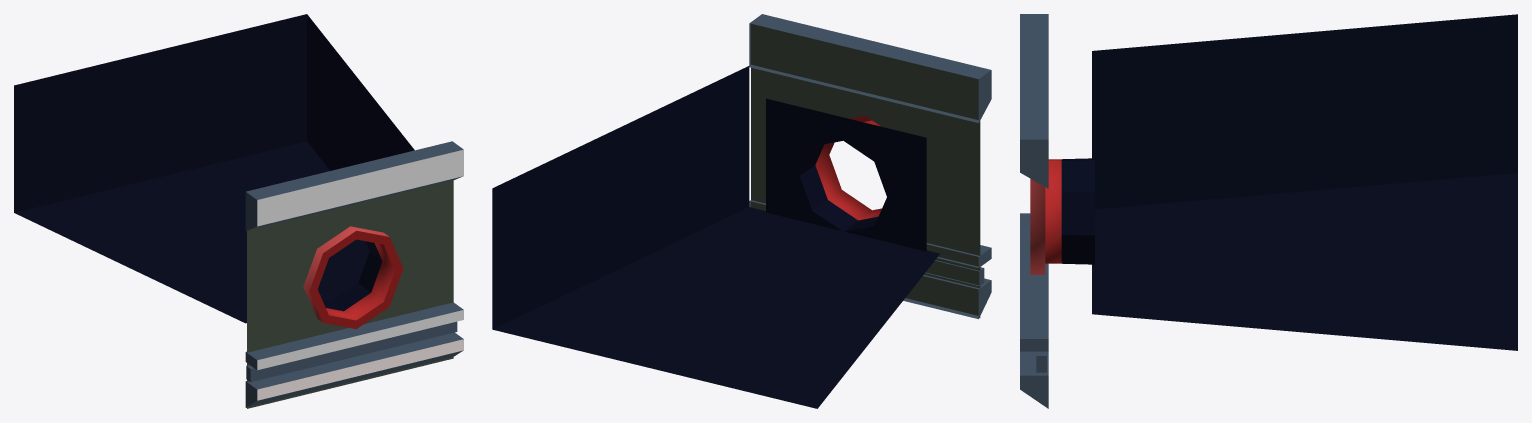
File: Environment_Wall_Spawner_Hole.fbx
3 views of the same model, side by side, from view 1: azimuth 30°, elevation 25°; view 2: azimuth 150°, elevation 25°; view 3: azimuth 270°, elevation 25° (orthographic). The views are drawn at different scales.
Visible parts, largest first — view 1: Wall_Spawner_Hole; view 2: Wall_Spawner_Hole; view 3: Wall_Spawner_Hole.
Part boxes in pixels (x1,y1,x2,y2): Wall_Spawner_Hole: (14,14,463,408); Wall_Spawner_Hole: (492,14,991,408); Wall_Spawner_Hole: (1020,14,1517,408).
Bounding box in the file's own units: 567 × 400 × 670.
